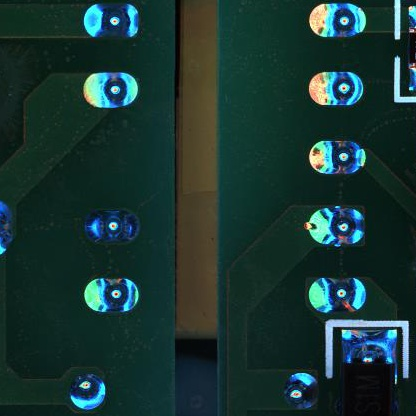spot: (306, 205, 366, 248), (82, 1, 142, 41), (308, 275, 368, 315), (310, 1, 368, 41), (82, 208, 141, 245), (308, 139, 367, 175), (308, 70, 364, 107), (83, 73, 139, 109), (83, 278, 139, 313), (69, 374, 107, 411), (282, 371, 318, 409)
